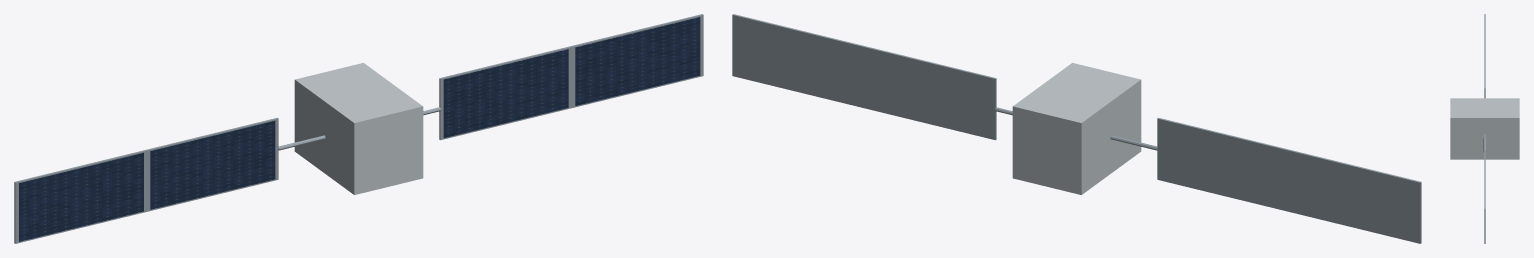
File: ref-zhtw-59705.glb
3 views of the same model, side by side, from view 1: azimuth 30°, elevation 25°; view 2: azimuth 150°, elevation 25°; view 3: azimuth 270°, elevation 25° (orthographic). The views are drawn at different scales.
Parts seen in each view (by area): view 1: Photovoltaic laminates (×4), Spacecraft body, Array frame (×4); view 2: Array frame (×4), Spacecraft body; view 3: Spacecraft body, Array frame (×4), Solar array drive.
Part boxes in pixels (x1=…): Photovoltaic laminates (×4): x1=19, y1=17, x2=700, y2=241; Spacecraft body: x1=294, y1=63, x2=423, y2=194; Array frame (×4): x1=14, y1=14, x2=703, y2=243; Array frame (×4): x1=732, y1=14, x2=1421, y2=243; Spacecraft body: x1=1012, y1=63, x2=1141, y2=194; Spacecraft body: x1=1450, y1=98, x2=1519, y2=159; Array frame (×4): x1=1484, y1=14, x2=1485, y2=243; Solar array drive: x1=1483, y1=138, x2=1486, y2=152.
Size of the model in its own units: 20 by 2 by 3.
Materials: 3 (1 with a texture image).
